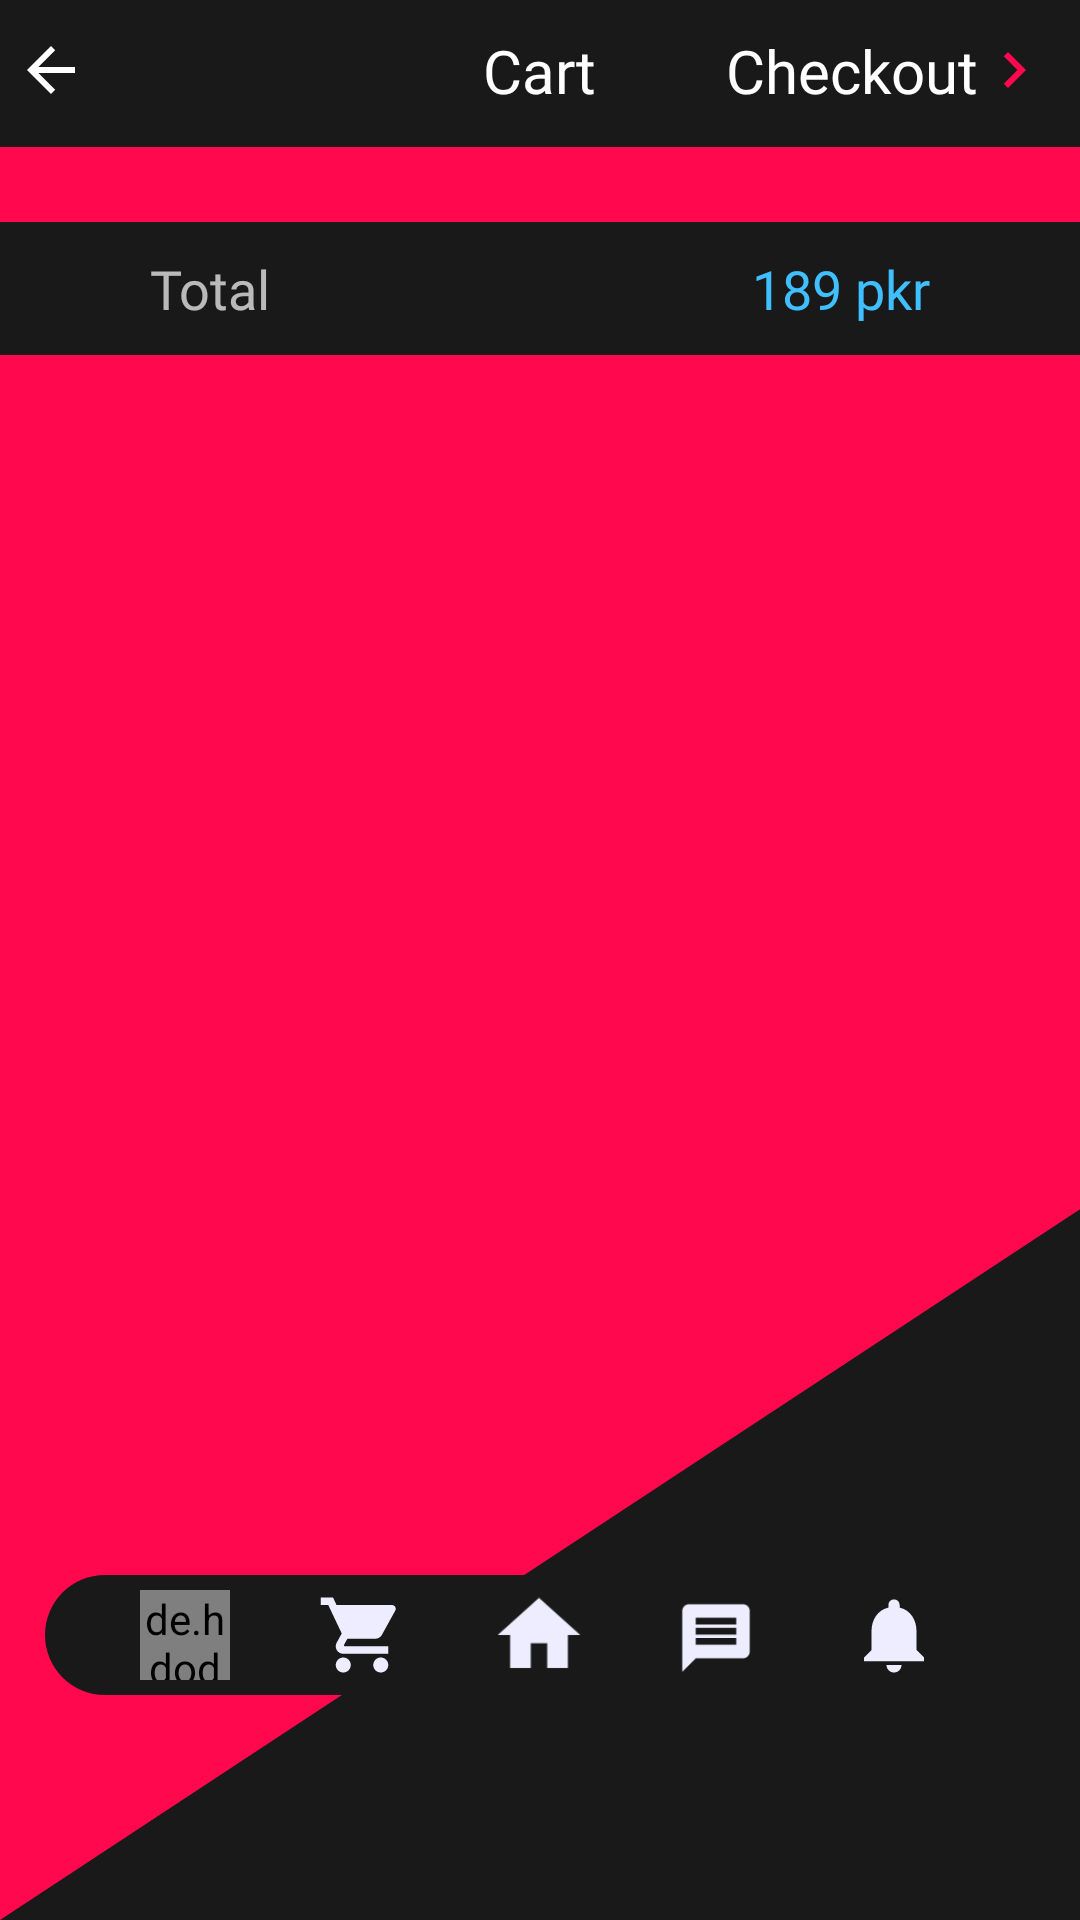

Screen size 1080w x 1920h. Icon name, then its center in pixels as [x,y]:
notifications: [894,1636]
shopping cart: [358,1635]
